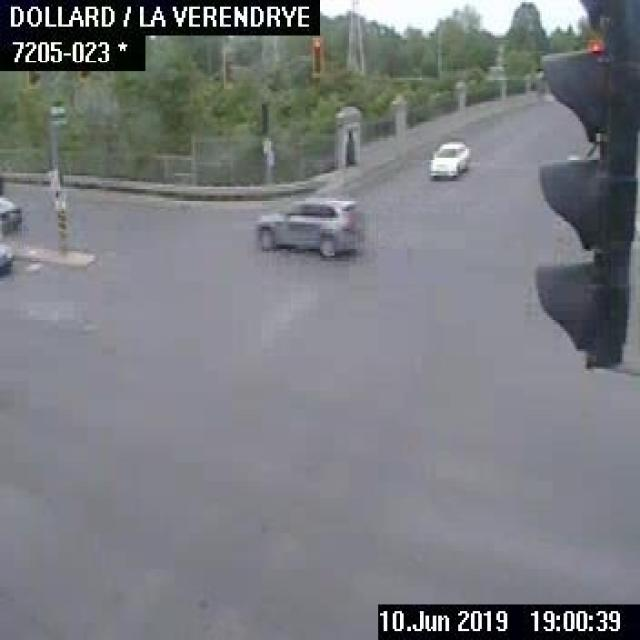vehicle: (252, 193, 364, 256), (428, 138, 468, 176), (0, 191, 22, 240), (0, 240, 22, 273)
